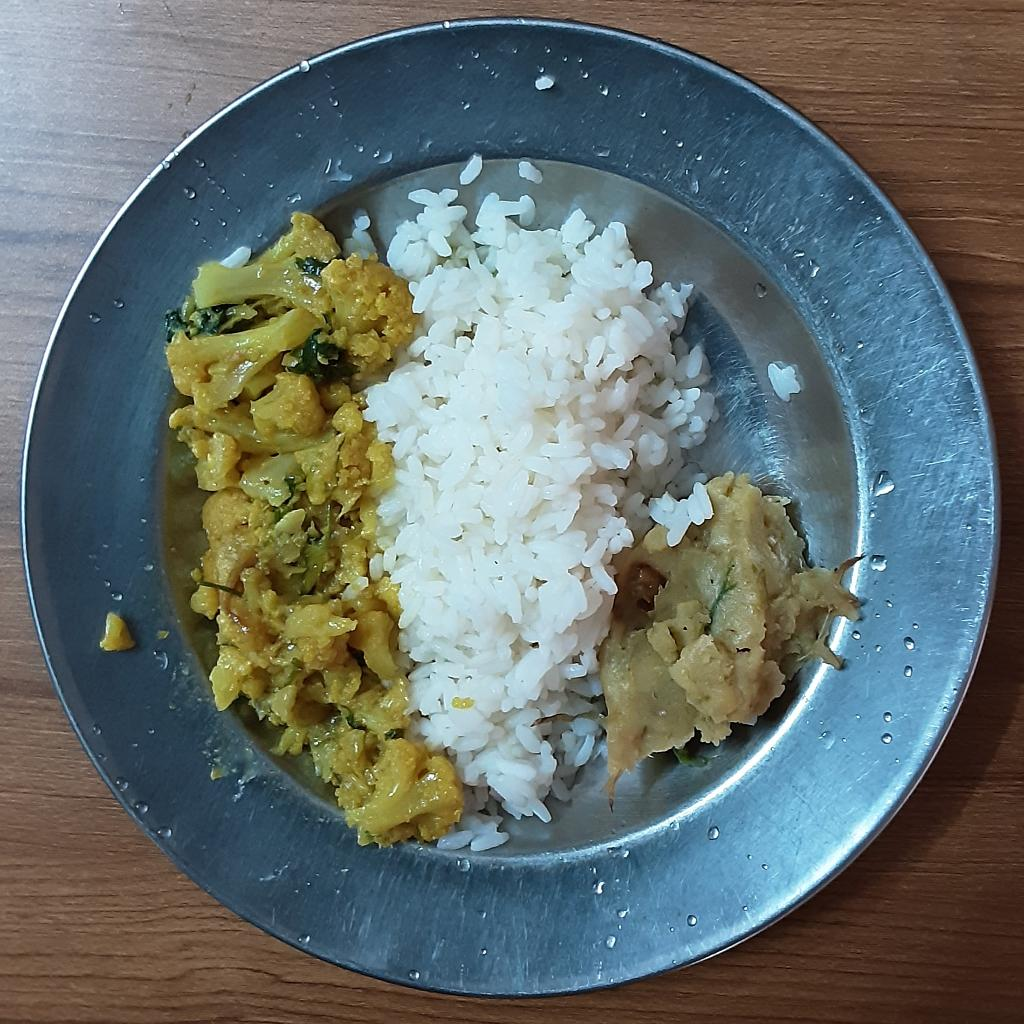cauliflower: (160, 208, 468, 844)
potato-mashed: (605, 470, 865, 804)
rice: (347, 148, 712, 860)
